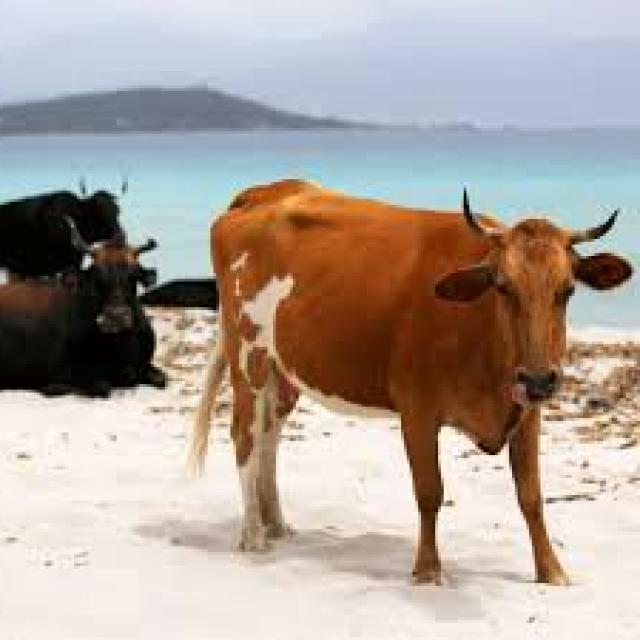cow: (196, 179, 631, 580), (3, 222, 168, 393)
